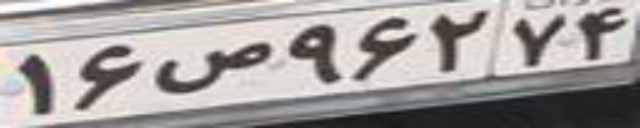1: (15, 54, 53, 115)
2: (426, 9, 485, 72)
4: (575, 7, 627, 61)
6: (74, 44, 142, 109), (352, 16, 415, 81)
7: (509, 13, 563, 67)
9: (287, 24, 338, 82)
saat: (154, 41, 275, 94)
